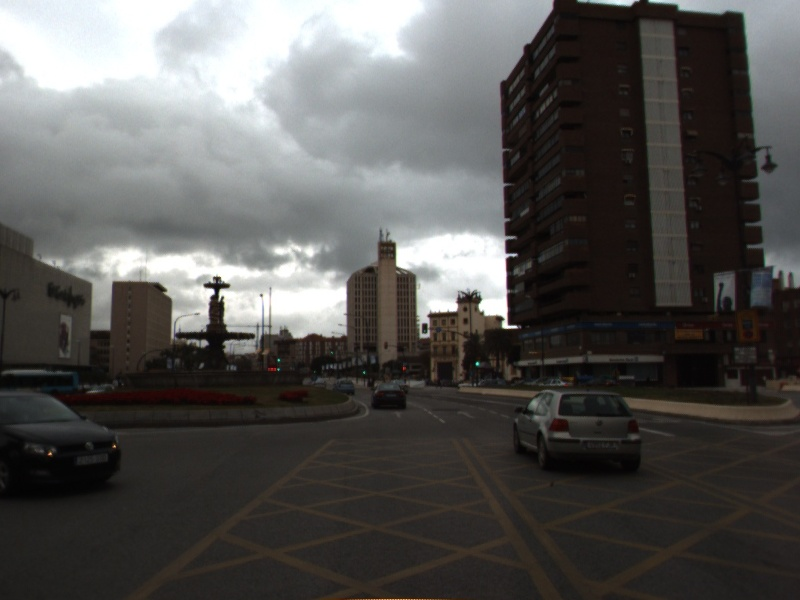STRAIGHT: (454, 408, 479, 421), (389, 408, 408, 420)
